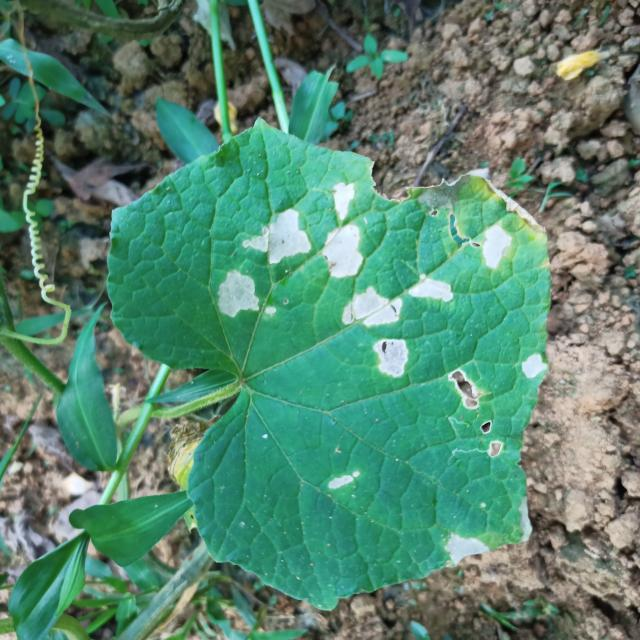disease_cucumber: (340, 287, 409, 382), (448, 367, 508, 459), (320, 182, 365, 280), (242, 209, 314, 269), (208, 269, 280, 324), (476, 222, 512, 273), (406, 271, 456, 305), (442, 532, 488, 564), (517, 352, 548, 379), (331, 468, 362, 492)
